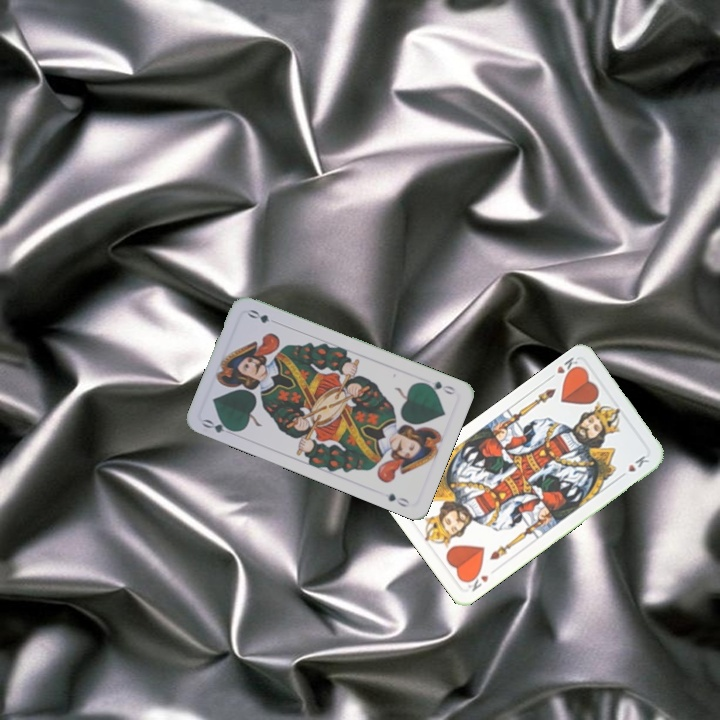GO: (198, 415, 239, 436), (418, 377, 458, 397)
HK: (544, 353, 583, 383), (464, 571, 491, 594)
